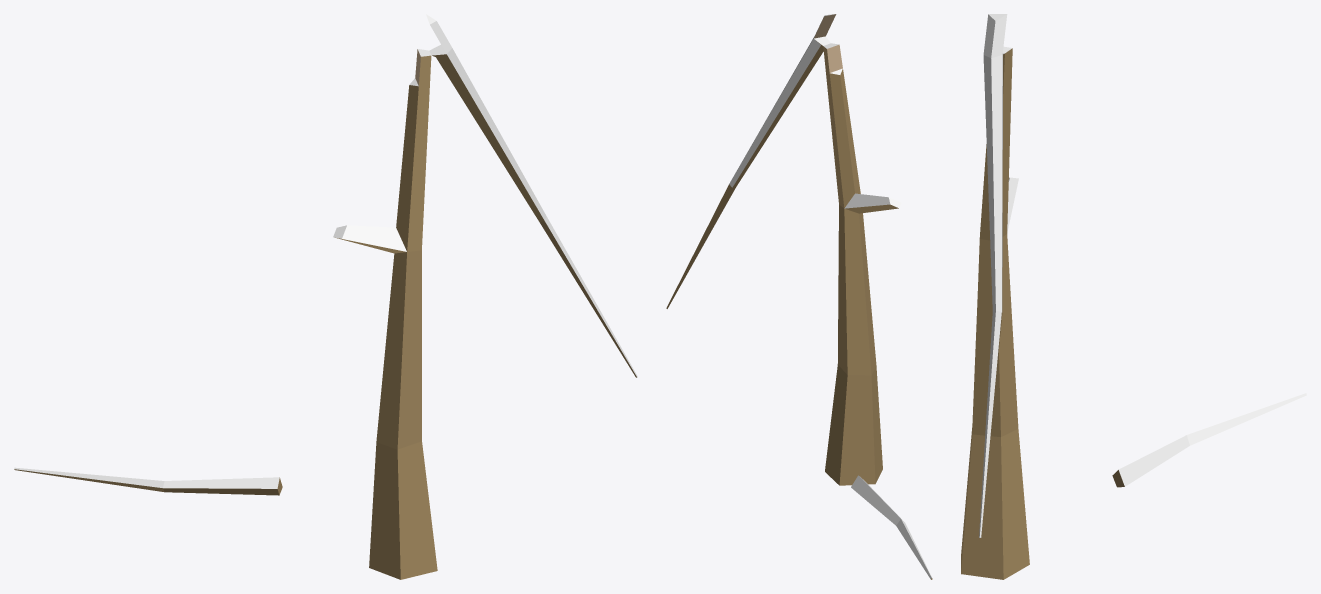
Rendered from Random_Tree_NoLeaves_crk_m_Snow_BT_02.fbx.
3 renders of one model, left to right at view 1: azimuth 30°, elevation 25°; view 2: azimuth 150°, elevation 25°; view 3: azimuth 270°, elevation 25°, orthographic. The views are drawn at different scales.
Parts seen in each view (by area): view 1: Random_Tree_NoLeaves_crk_m_Snow_BT_02; view 2: Random_Tree_NoLeaves_crk_m_Snow_BT_02; view 3: Random_Tree_NoLeaves_crk_m_Snow_BT_02.
Boxes of the visible parts, x1,y1,x2,y2 form: Random_Tree_NoLeaves_crk_m_Snow_BT_02: (14,14,637,579); Random_Tree_NoLeaves_crk_m_Snow_BT_02: (666,14,932,579); Random_Tree_NoLeaves_crk_m_Snow_BT_02: (961,14,1306,579).
Bounding box in the file's own units: 451 × 495 × 275.
